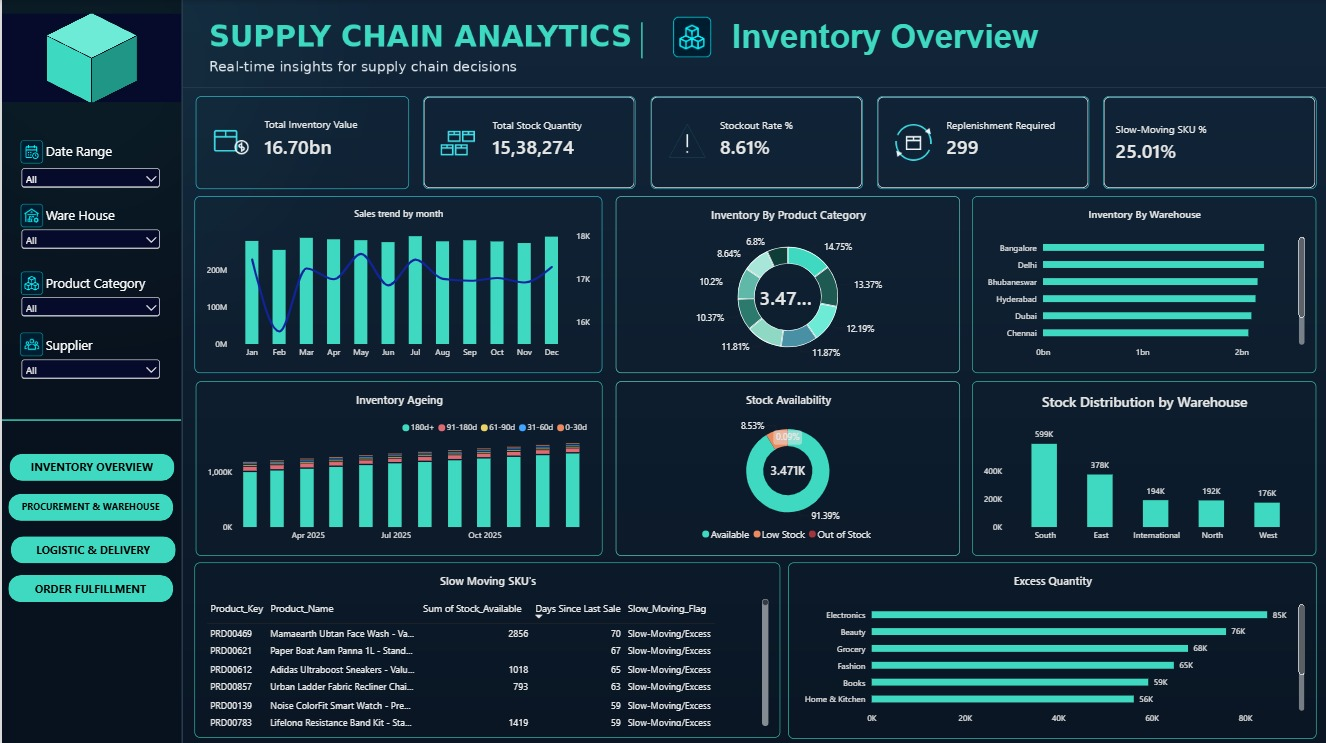

Layout of this report page (visuals, bound fields, positions):
{"tool":"powerbi","page":{"name":"Inventory Overview","canvas":[1920,1080],"ordinal":0},"visuals":[{"type":"image","box":[0,20,259.4,127.7],"z":0},{"type":"cardVisual","fields":{"Data":["Measure_Table.Total Inventory Value"]},"box":[280,138.6,308.6,134.3],"z":1000},{"type":"cardVisual","fields":{"Data":["Measure_Table.Total Stock Quantity"]},"box":[610,138.6,307.1,134.3],"z":2000},{"type":"cardVisual","fields":{"Data":["Measure_Table.Stockout Rate %"]},"box":[938.6,138.6,307.1,134.3],"z":3000},{"type":"cardVisual","fields":{"Data":["Measure_Table.Stockout SKU Count"]},"box":[1267.1,138.6,307.1,134.3],"z":4000},{"type":"cardVisual","fields":{"Data":["Measure_Table.Slow-Moving SKU %"]},"box":[1594.3,138.6,308.6,134.3],"z":5000},{"type":"lineClusteredColumnComboChart","title":"Sales trend by month","fields":{"Category":["dim_date.Month_Name"],"Y":["Sum(Sales_master.Net_Sales)"],"Y2":["Sum(Sales_master.Quantity)"]},"box":[278.6,284.3,590,255.7],"z":6000},{"type":"donutChart","title":"Inventory By Product Category","fields":{"Category":["Product_master.Product_Category"],"Y":["CountNonNull(Inventory_master.Product_ID)"]},"box":[888.6,284.3,498.6,255.7],"z":7000},{"type":"clusteredBarChart","title":"Inventory By Warehouse","fields":{"Category":["Warehouse_master.Warehouse_City"],"Y":["Sum(Inventory_master.Inventory_Value)"]},"box":[1404.3,284.3,498.6,255.7],"z":8000},{"type":"columnChart","title":"Inventory Ageing","fields":{"Y":["Sum(Inventory_Ageing_Monthly_Trend.Qty)"],"Category":["Inventory_Ageing_Monthly_Trend.Month_End"],"Series":["Inventory_Ageing_Monthly_Trend.Ageing_Bucket"]},"box":[280,551.4,588.6,252.9],"z":9000},{"type":"donutChart","title":"Stock Availability","fields":{"Category":["Inventory_master.Stock Availability Status"],"Y":["CountNonNull(Inventory_master.Product_ID)"]},"box":[888.6,551.4,498.6,252.9],"z":10000},{"type":"clusteredColumnChart","title":"Stock Distribution by Warehouse","fields":{"Category":["Warehouse_master.Region"],"Y":["Measure_Table.Total Stock Quantity"]},"box":[1404.3,551.4,498.6,252.9],"z":11000},{"type":"tableEx","title":"Slow Moving SKU''s","fields":{"Values":["Product_master.Product_Key","Product_master.Product_Name","Sum(Inventory_master.Stock_Available)","Measure_Table.Days Since Last Sale","Inventory_master.Slow_Moving_Flag"]},"box":[279,815,848.1,253.8],"z":12000},{"type":"clusteredBarChart","title":"Excess Quantity","fields":{"Y":["Sum(Inventory_master.Excess_Qty)"],"Category":["Product_master.Product_Category"]},"box":[1138.1,815,764.5,255.4],"z":13000},{"type":"textbox","box":[1056.2,25.2,488.7,66.2],"z":14000},{"type":"shape","box":[902,32.2,50.3,51.7],"z":15000},{"type":"slicer","title":"Date Range","fields":{"Values":["dim_date.Date_Value"]},"box":[23.6,238,210.1,38.6],"z":16000},{"type":"slicer","fields":{"Values":["Warehouse_master.Warehouse_City"]},"box":[23.6,327.9,210.1,38.6],"z":17000},{"type":"slicer","fields":{"Values":["Product_master.Product_Category"]},"box":[23.6,425.6,210.1,38.6],"z":18000},{"type":"slicer","fields":{"Values":["Supplier_master.Supplier_Name"]},"box":[23.6,515.5,210.1,38.6],"z":19000},{"type":"textbox","box":[63.1,206.5,171.6,31.9],"z":20000},{"type":"textbox","box":[63.1,297.9,187.5,30.6],"z":21000},{"type":"textbox","box":[63.1,395.7,171.8,30],"z":22000},{"type":"textbox","box":[63.1,487.1,194.2,27.9],"z":23000},{"type":"image","box":[960,23.6,80.4,59.9],"z":24000},{"type":"actionButton","box":[10.6,657.6,238.9,39.3],"z":25000},{"type":"shape","box":[0,581.2,259.4,54.5],"z":26000},{"type":"actionButton","box":[9.1,715.1,238.9,39.3],"z":27000},{"type":"actionButton","box":[12.1,775.6,238.9,39.3],"z":28000},{"type":"actionButton","box":[9.1,833,238.9,39.3],"z":29000},{"type":"image","box":[24.2,202.6,39.3,34.8],"z":30000},{"type":"image","box":[24.2,294.8,39,34],"z":31000},{"type":"image","box":[24.2,393.1,39,34],"z":32000},{"type":"image","box":[24.2,480.8,39,34],"z":33000}]}

Visuals, with their boxes in screenshot pixels (x1, y1, x2, y2), scaled from the page's 1920x1080 canvas onto the 1326x743 screenshot:
image: pyautogui.locateOnScreen(0, 14, 179, 102)
cardVisual - Measure_Table.Total Inventory Value: pyautogui.locateOnScreen(193, 95, 407, 188)
cardVisual - Measure_Table.Total Stock Quantity: pyautogui.locateOnScreen(421, 95, 633, 188)
cardVisual - Measure_Table.Stockout Rate %: pyautogui.locateOnScreen(648, 95, 860, 188)
cardVisual - Measure_Table.Stockout SKU Count: pyautogui.locateOnScreen(875, 95, 1087, 188)
cardVisual - Measure_Table.Slow-Moving SKU %: pyautogui.locateOnScreen(1101, 95, 1314, 188)
"Sales trend by month" lineClusteredColumnComboChart: pyautogui.locateOnScreen(192, 196, 600, 372)
"Inventory By Product Category" donutChart: pyautogui.locateOnScreen(614, 196, 958, 372)
"Inventory By Warehouse" clusteredBarChart: pyautogui.locateOnScreen(970, 196, 1314, 372)
"Inventory Ageing" columnChart: pyautogui.locateOnScreen(193, 379, 600, 553)
"Stock Availability" donutChart: pyautogui.locateOnScreen(614, 379, 958, 553)
"Stock Distribution by Warehouse" clusteredColumnChart: pyautogui.locateOnScreen(970, 379, 1314, 553)
"Slow Moving SKU''s" tableEx: pyautogui.locateOnScreen(193, 561, 778, 735)
"Excess Quantity" clusteredBarChart: pyautogui.locateOnScreen(786, 561, 1314, 736)
textbox: pyautogui.locateOnScreen(729, 17, 1067, 63)
shape: pyautogui.locateOnScreen(623, 22, 658, 58)
"Date Range" slicer: pyautogui.locateOnScreen(16, 164, 161, 190)
slicer - Warehouse_master.Warehouse_City: pyautogui.locateOnScreen(16, 226, 161, 252)
slicer - Product_master.Product_Category: pyautogui.locateOnScreen(16, 293, 161, 319)
slicer - Supplier_master.Supplier_Name: pyautogui.locateOnScreen(16, 355, 161, 381)
textbox: pyautogui.locateOnScreen(44, 142, 162, 164)
textbox: pyautogui.locateOnScreen(44, 205, 173, 226)
textbox: pyautogui.locateOnScreen(44, 272, 162, 293)
textbox: pyautogui.locateOnScreen(44, 335, 178, 354)
image: pyautogui.locateOnScreen(663, 16, 719, 57)
actionButton: pyautogui.locateOnScreen(7, 452, 172, 479)
shape: pyautogui.locateOnScreen(0, 400, 179, 437)
actionButton: pyautogui.locateOnScreen(6, 492, 171, 519)
actionButton: pyautogui.locateOnScreen(8, 534, 173, 561)
actionButton: pyautogui.locateOnScreen(6, 573, 171, 600)
image: pyautogui.locateOnScreen(17, 139, 44, 163)
image: pyautogui.locateOnScreen(17, 203, 44, 226)
image: pyautogui.locateOnScreen(17, 270, 44, 294)
image: pyautogui.locateOnScreen(17, 331, 44, 354)
